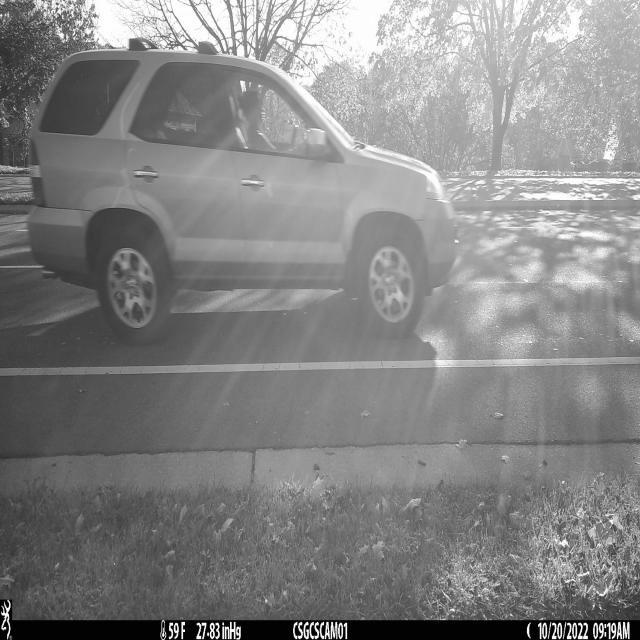SUV: (26, 50, 457, 349)
